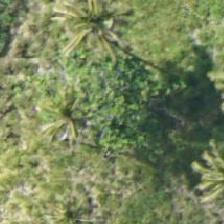coconut_tree: (20, 66, 110, 156), (45, 0, 135, 71), (51, 0, 141, 63)
